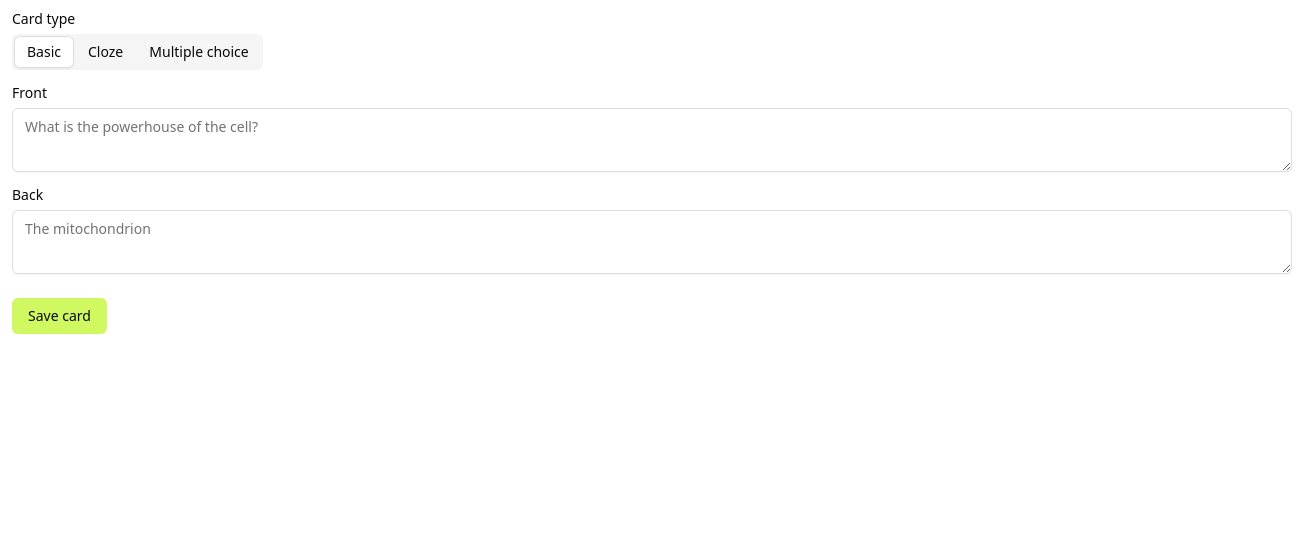
Test: the other two kinds › keeps exactly one option marked correct
Click the button "Multiple choice" at (199, 52), box [137,36,261,68]
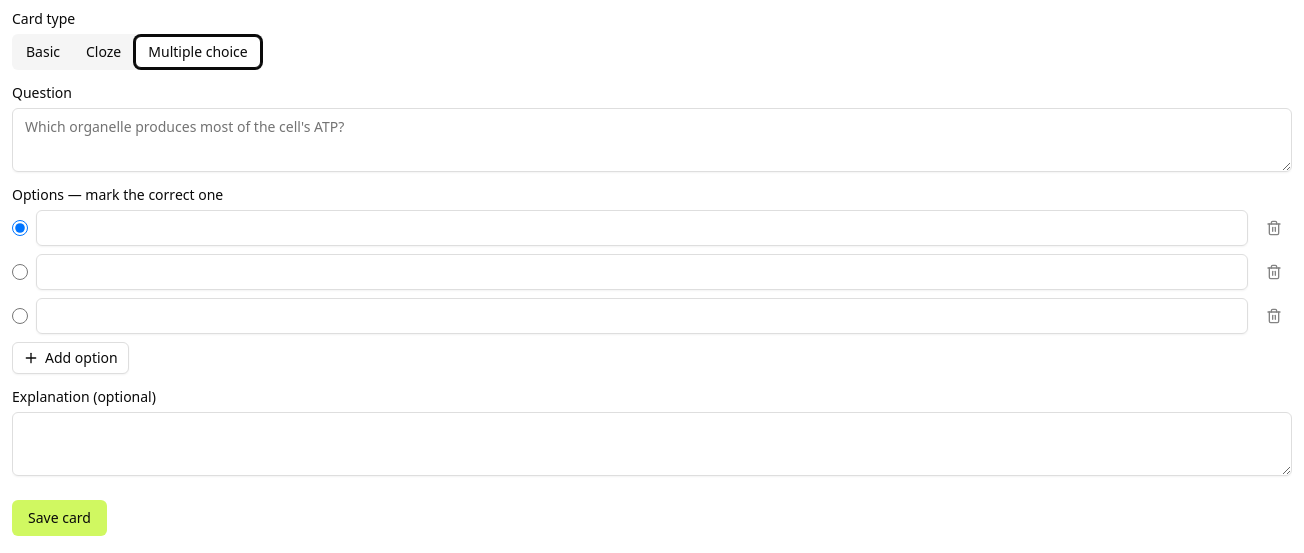
Click the radio button named "Option 3 is correct" at (20, 316), box [12,308,28,324]
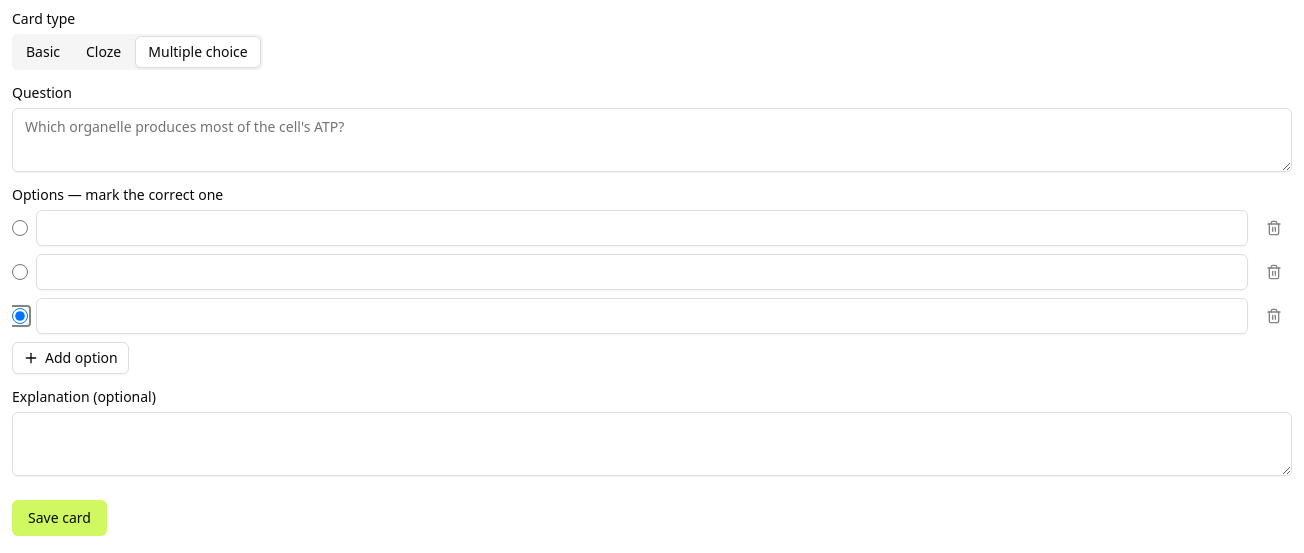
expect the radio button named "Option 3 is correct" is checked: met, box [12,308,28,324]
expect the radio button named "Option 1 is correct" is not checked: met, box [12,220,28,236]
